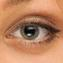eye: (21, 25, 39, 39)
